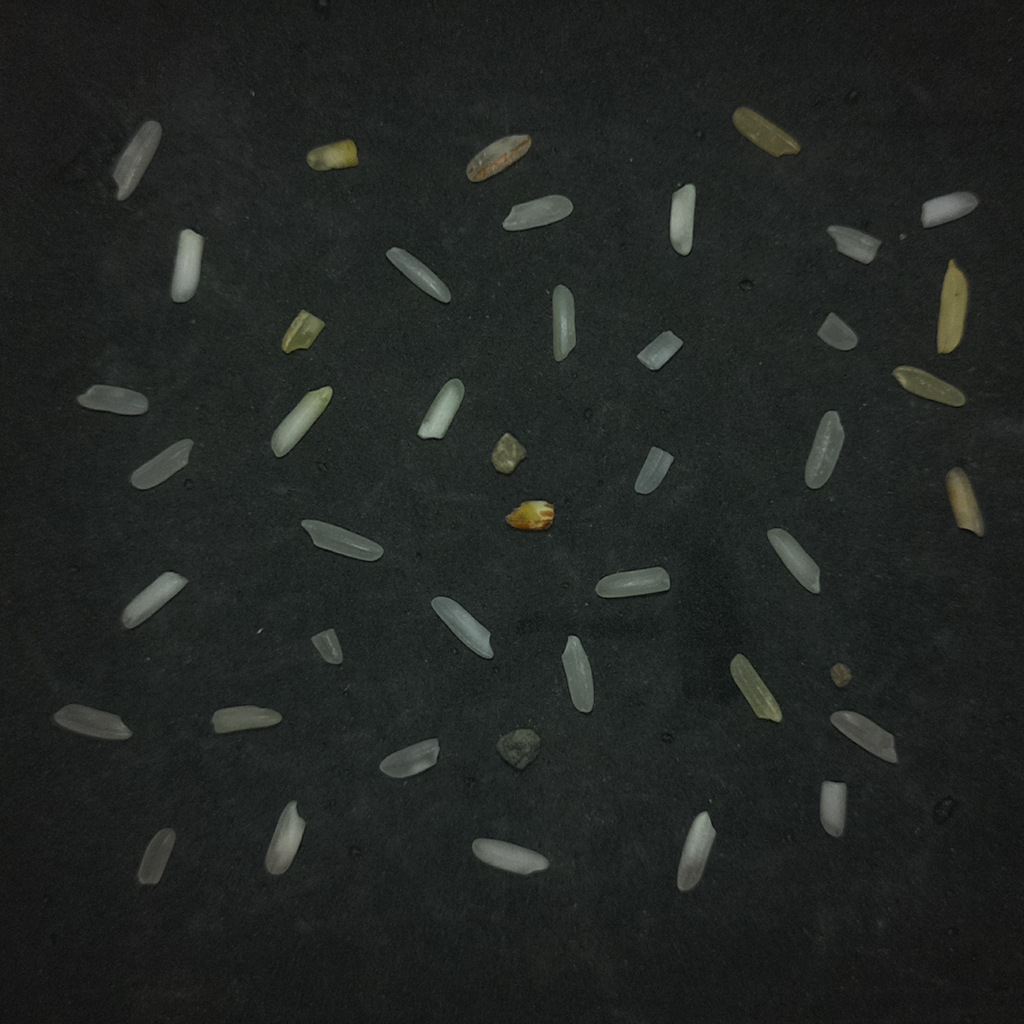broken: (830, 710, 897, 763), (946, 467, 984, 536), (379, 738, 438, 778), (137, 827, 175, 884), (826, 225, 880, 263), (211, 705, 281, 733), (634, 446, 673, 494), (282, 309, 324, 352), (637, 332, 681, 370), (817, 312, 857, 350), (311, 628, 343, 665)
chalky: (271, 386, 332, 457), (121, 571, 188, 628), (677, 811, 715, 891), (265, 801, 305, 875), (417, 378, 464, 438), (472, 838, 548, 874), (170, 229, 204, 302), (921, 191, 978, 227), (670, 185, 695, 255), (819, 781, 846, 837)
damaged: (505, 500, 554, 530)
discolored: (730, 654, 781, 721), (892, 365, 965, 406), (306, 138, 357, 170)
foreign: (496, 729, 540, 769), (491, 433, 526, 474), (830, 662, 851, 688)
paddy: (937, 259, 968, 353)
red: (732, 106, 800, 156), (466, 134, 531, 182)
whole: (431, 596, 493, 658), (112, 120, 160, 200), (386, 247, 450, 303), (300, 519, 383, 561), (767, 528, 820, 593), (130, 439, 193, 489), (804, 410, 844, 488), (52, 704, 132, 739), (502, 194, 572, 231), (562, 635, 593, 712), (595, 566, 669, 597), (77, 385, 147, 415), (552, 284, 576, 361)
